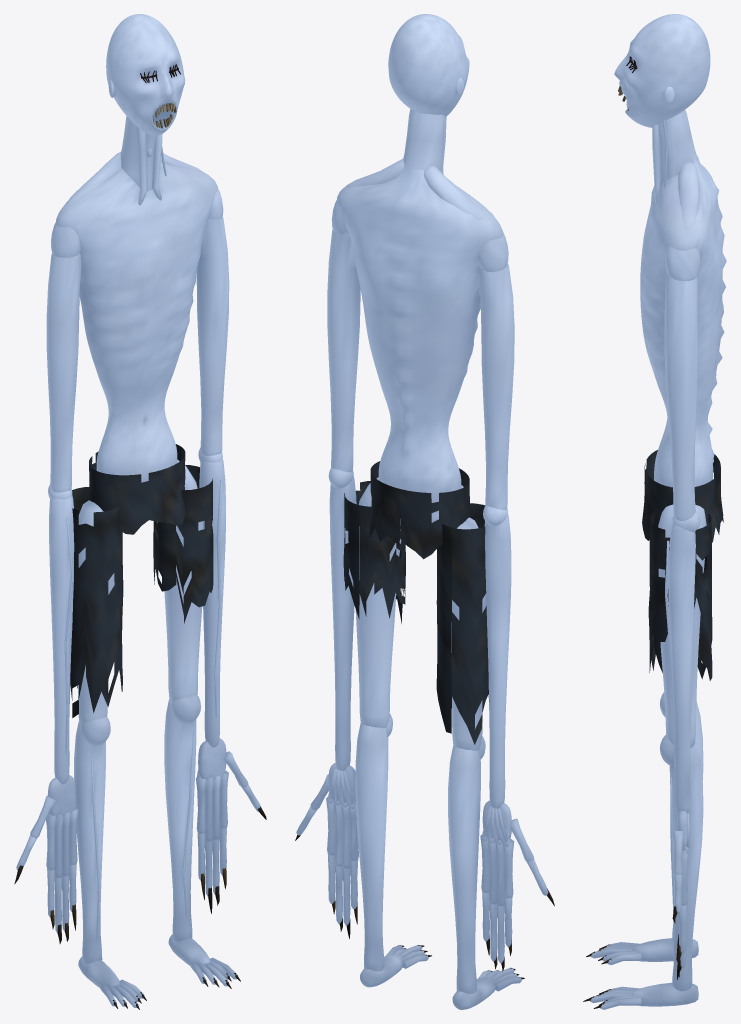
File: bledy_2.glb
The picture shows the model from 3 angles, left to right: view 1: azimuth 30°, elevation 25°; view 2: azimuth 150°, elevation 25°; view 3: azimuth 270°, elevation 25°; orthographic projection. The views are drawn at different scales.
Visible parts, largest first — view 1: koza.033, latka.001, koza.002, koza.001, koza.028, koza.034, koza.029, koza.026, latka.002, latka, koza.027, koza.032 (+4 smaller); view 2: koza.033, latka.001, koza.002, koza.001, koza.028, koza.029, koza.034, koza.026, koza.027, latka, latka.002, koza.032 (+4 smaller); view 3: koza.033, koza.029, koza.034, koza.027, koza.002, latka.002, latka, koza.032, koza.025, koza.001, latka.001, koza.021 (+1 smaller).
Boxes of the visible parts, x1,y1,x2,y2 form: koza.033: [56, 152, 217, 482]; latka.001: [70, 487, 123, 717]; koza.002: [164, 695, 237, 986]; koza.001: [74, 716, 144, 1007]; koza.028: [46, 222, 81, 492]; koza.034: [106, 14, 185, 135]; koza.029: [196, 189, 229, 455]; koza.026: [48, 484, 74, 783]; latka.002: [153, 465, 213, 623]; latka: [88, 444, 185, 534]; koza.027: [198, 447, 225, 747]; koza.032: [157, 459, 203, 704]; koza.033: [337, 159, 503, 524]; latka.001: [436, 503, 489, 744]; koza.002: [355, 713, 428, 987]; koza.001: [448, 736, 521, 1009]; koza.028: [478, 233, 514, 509]; koza.029: [327, 200, 360, 472]; koza.034: [388, 14, 469, 116]; koza.026: [483, 506, 511, 808]; koza.027: [328, 468, 356, 770]; latka: [369, 461, 470, 559]; latka.002: [343, 481, 405, 623]; koza.032: [355, 477, 401, 728]; koza.033: [640, 156, 726, 487]; koza.029: [664, 246, 700, 520]; koza.034: [614, 14, 710, 127]; koza.027: [665, 511, 700, 813]; koza.002: [590, 735, 703, 1009]; latka.002: [648, 512, 711, 646]; latka: [642, 450, 723, 542]; koza.032: [658, 504, 706, 748]; koza.025: [652, 110, 697, 202]; koza.001: [591, 692, 703, 965]; latka.001: [649, 544, 712, 680]; koza.021: [672, 831, 683, 874].
Size of the model in its own units: 0.8395 by 3.03 by 0.4081.
